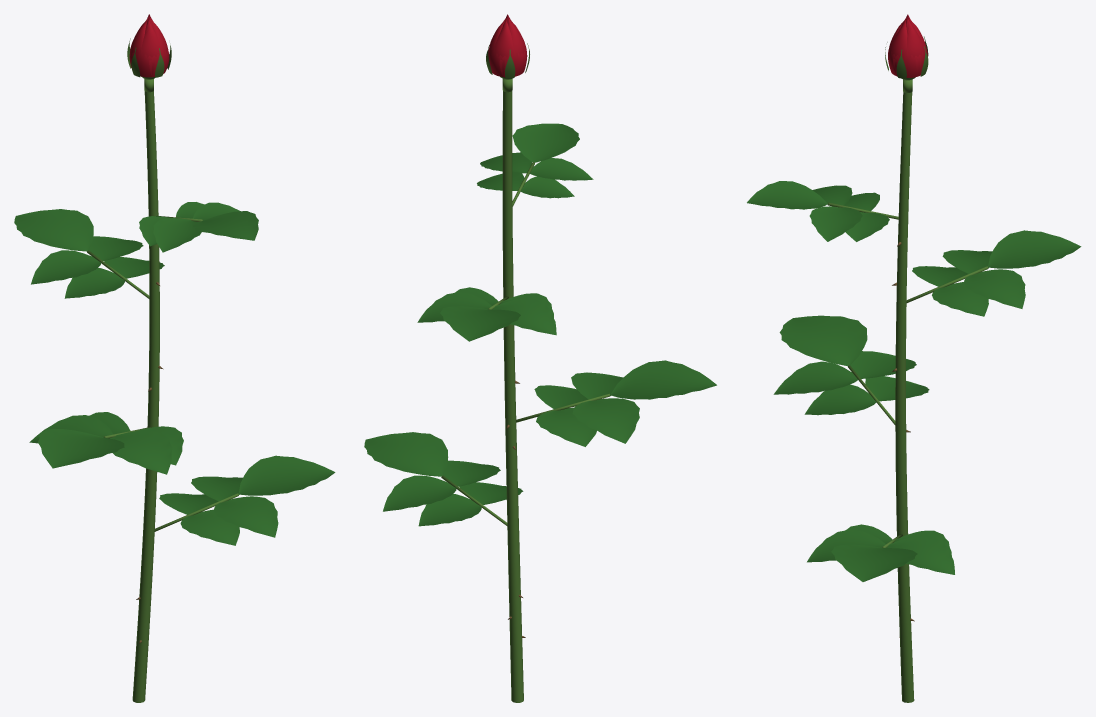
The model's file is rosa_1_triangulo_inmaduro.obj.
3 renders of one model, left to right at view 1: azimuth 30°, elevation 25°; view 2: azimuth 150°, elevation 25°; view 3: azimuth 270°, elevation 25°, orthographic.
Visible parts, largest first — view 1: hoja, tallo, petalo; view 2: hoja, tallo, petalo; view 3: hoja, tallo, petalo.
Boxes of the visible parts, x1,y1,x2,y2 form: hoja: (14, 202, 335, 545); tallo: (87, 79, 238, 702); petalo: (129, 16, 169, 77); hoja: (364, 123, 716, 526); tallo: (441, 79, 610, 702); petalo: (488, 16, 527, 77); hoja: (747, 181, 1081, 581); tallo: (827, 79, 988, 702); petalo: (888, 16, 927, 77).
Size of the model in its own units: 0.3007 by 0.619 by 0.272.
